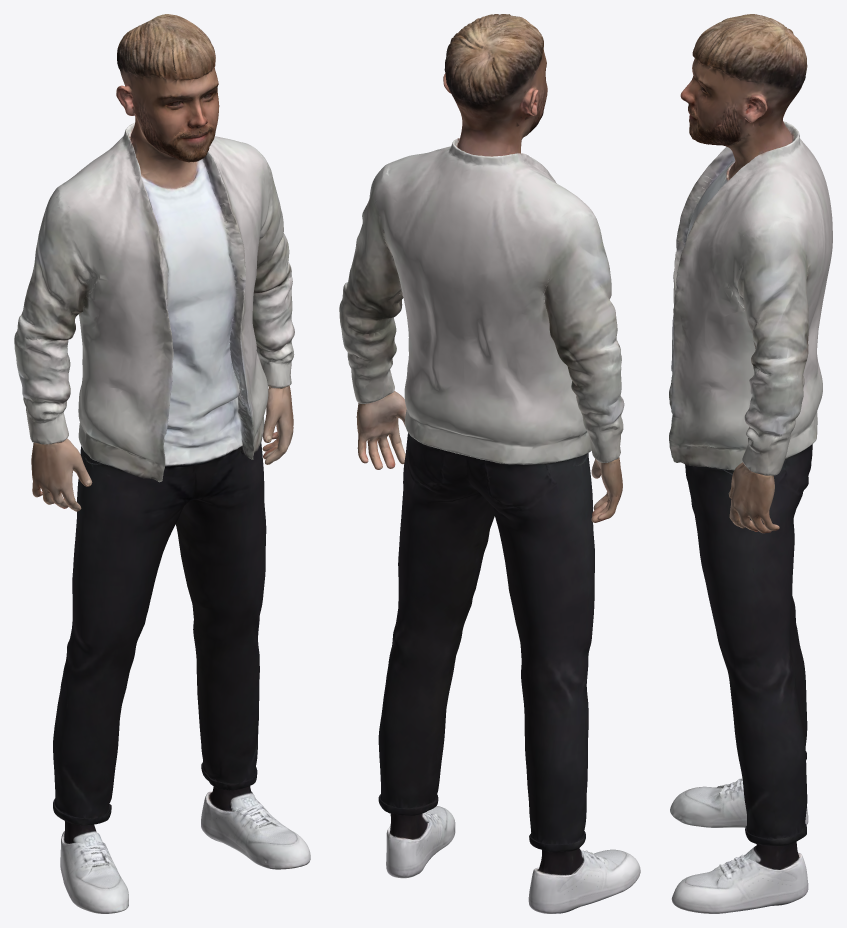
Rendered from model_opt.glb.
3 views of the same model, side by side, from view 1: azimuth 30°, elevation 25°; view 2: azimuth 150°, elevation 25°; view 3: azimuth 270°, elevation 25° (orthographic).
Visible parts, largest first — view 1: Mesh_0; view 2: Mesh_0; view 3: Mesh_0.
Part boxes in pixels (box(x1,y1,x2,y2)): Mesh_0: box(14, 14, 310, 913); Mesh_0: box(339, 14, 640, 913); Mesh_0: box(669, 14, 832, 913).
Bounding box in the file's own units: 60.36 × 180 × 31.75.
1 material, 1 textured.
